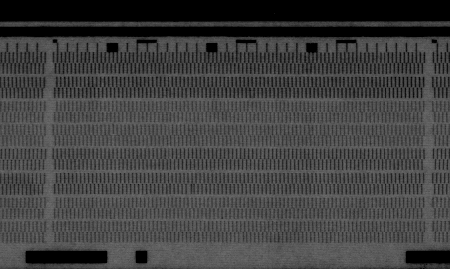Oblique printing: (184, 183, 196, 195)
